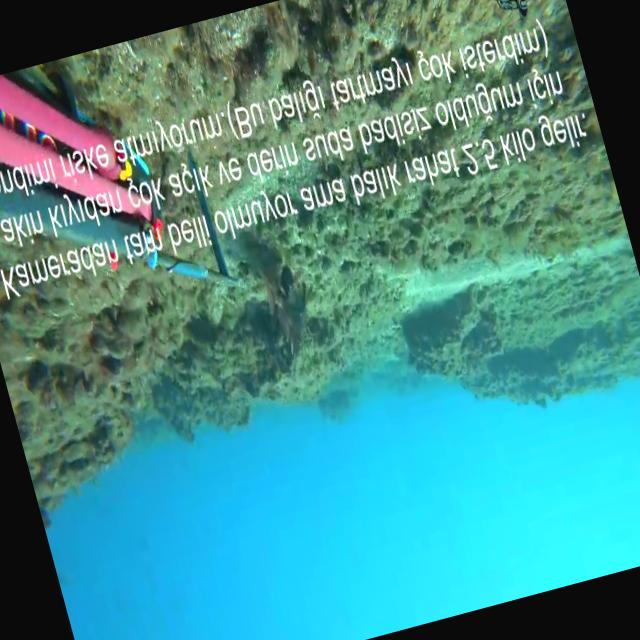Aslan Baligi: (234, 238, 342, 380)
